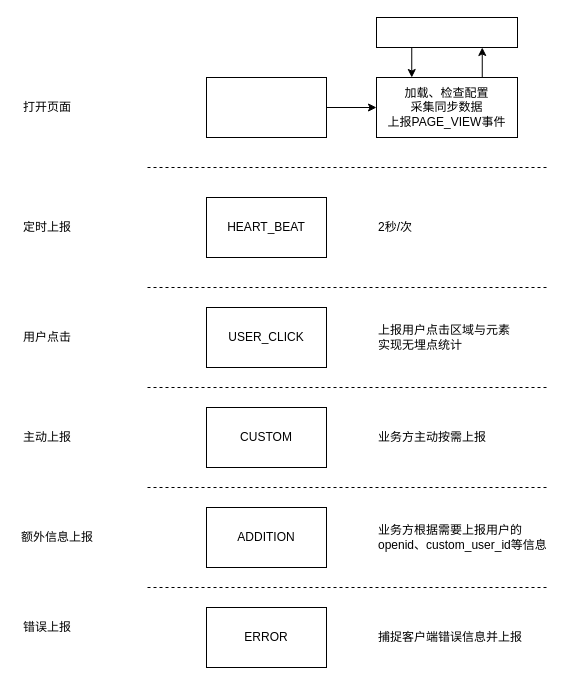
Some shapes in this 573 by 685 pixel diagram are drawn without their labels. The centre of each missing label's shape, as x and y in pixels:
"本地缓存信息" belongs at [447,32].
"载入seer-sdk.js" belongs at [266,107].
